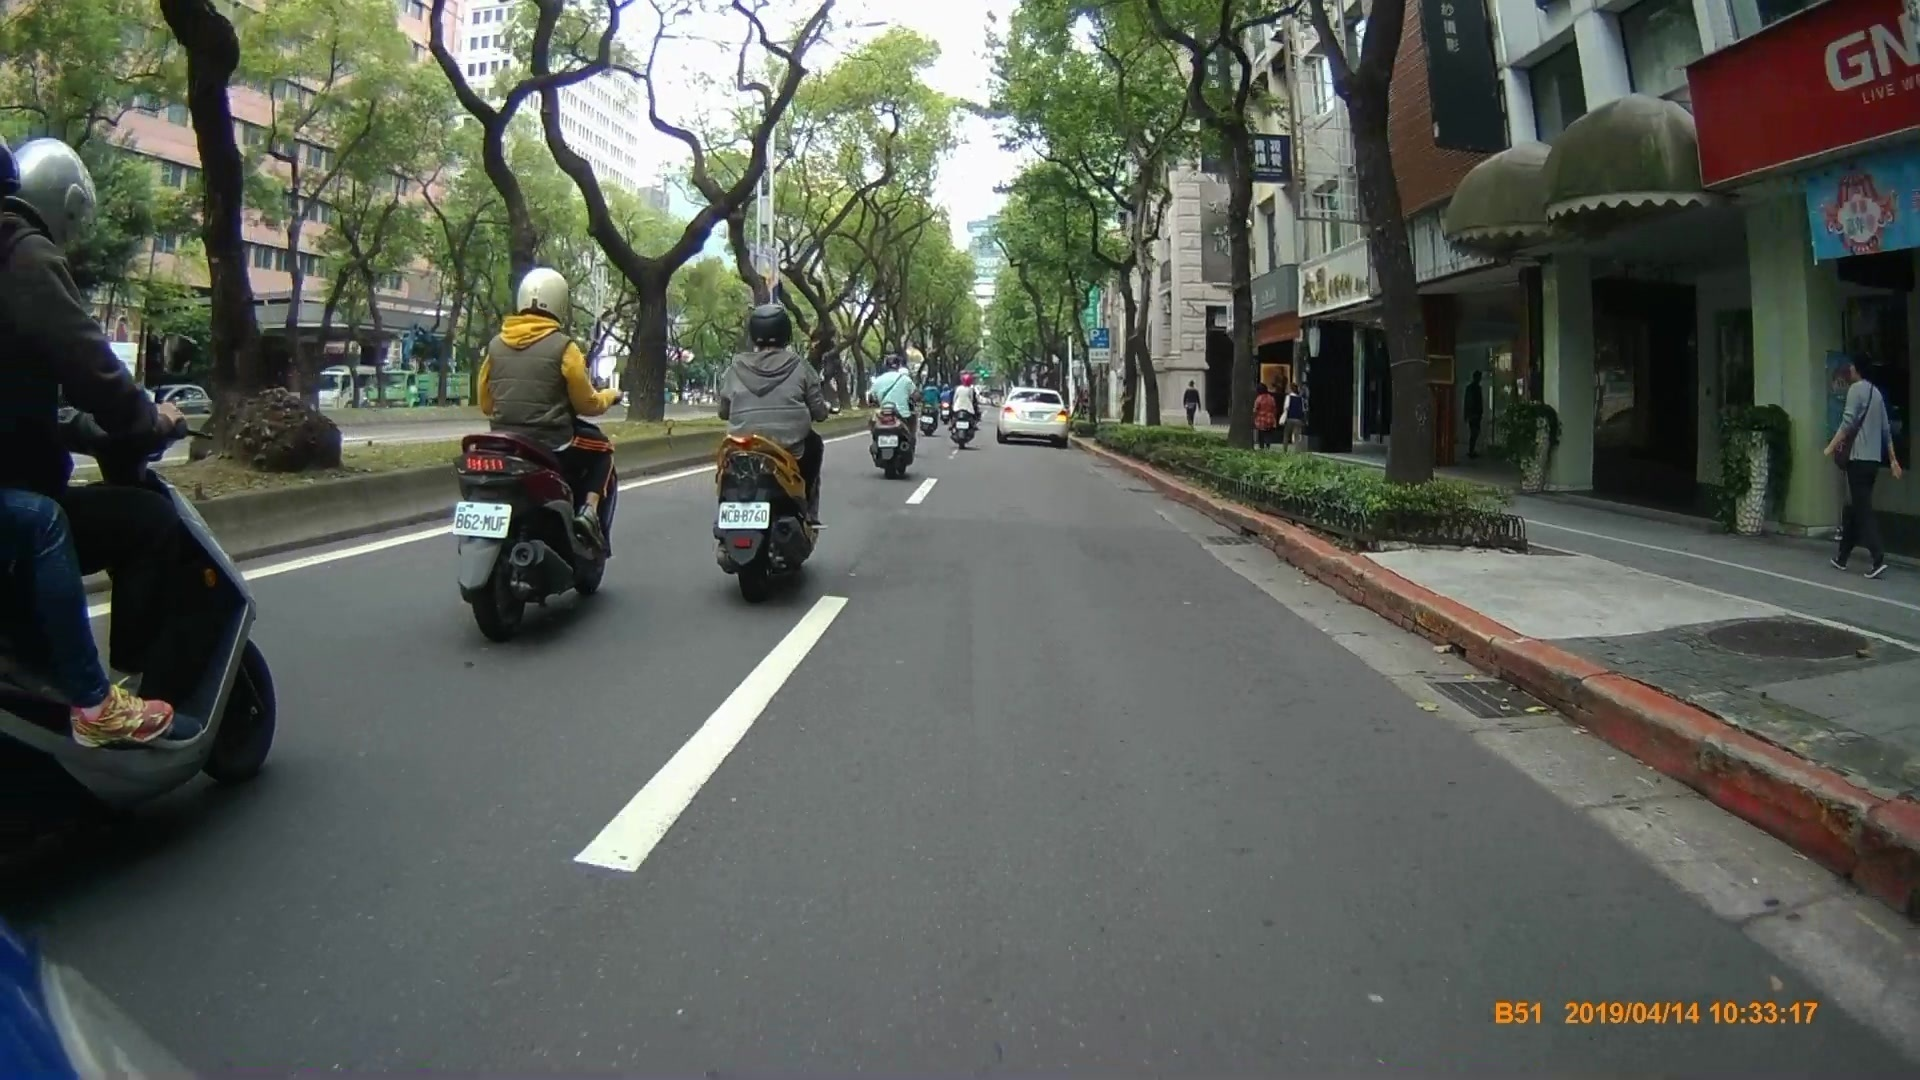License_plate: (452, 499, 512, 538), (716, 499, 773, 533), (877, 434, 899, 448)
